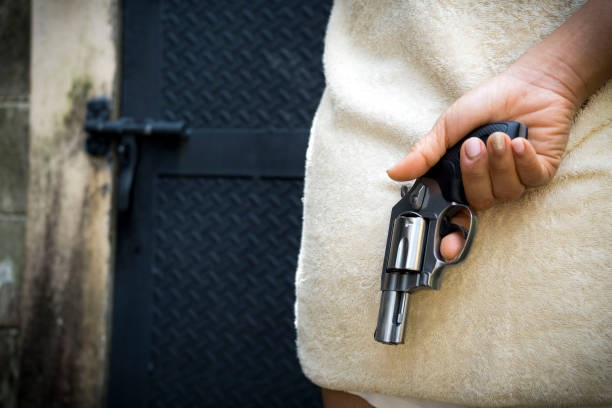pistol: (372, 118, 528, 345)
